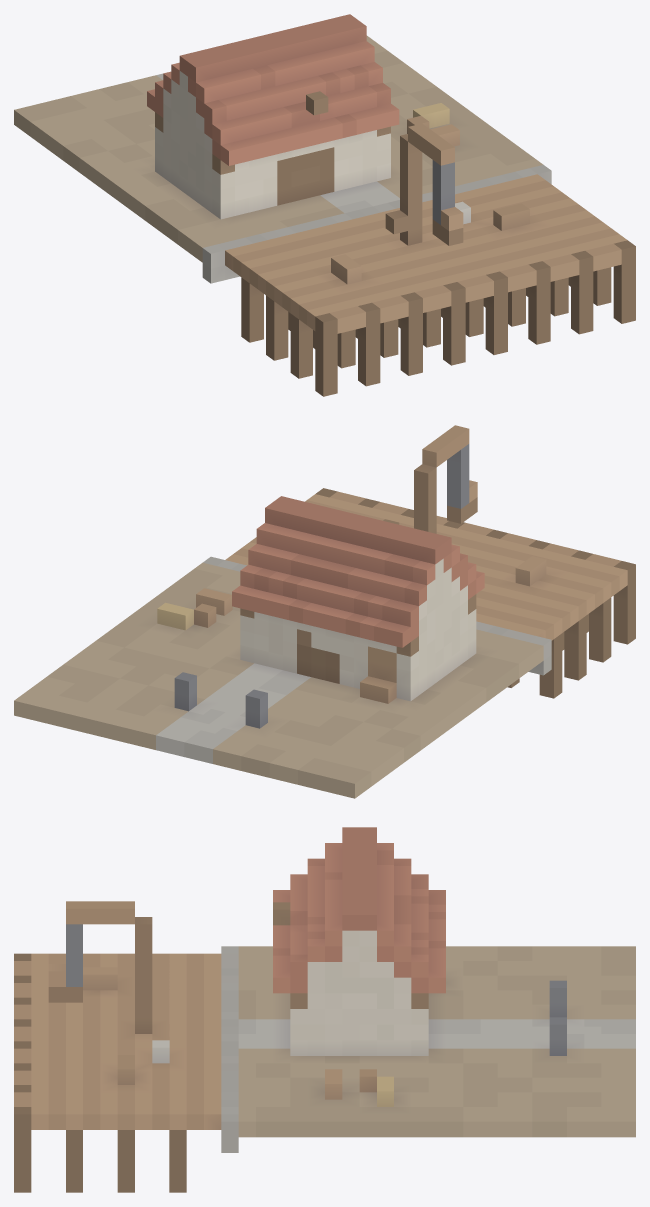
Rendered from trading_post.l2.lite.glb.
3 views of the same model, one above another, from view 1: azimuth 30°, elevation 25°; view 2: azimuth 150°, elevation 25°; view 3: azimuth 270°, elevation 25° (orthographic). The views are drawn at different scales.
Visible parts, largest first — view 1: trading_post; view 2: trading_post; view 3: trading_post.
Part boxes in pixels (<box>): trading_post: <box>14,14,635,396</box>; trading_post: <box>14,425,635,798</box>; trading_post: <box>14,827,635,1192</box>.
Bounding box in the file's own units: 6 × 3.5 × 9.
